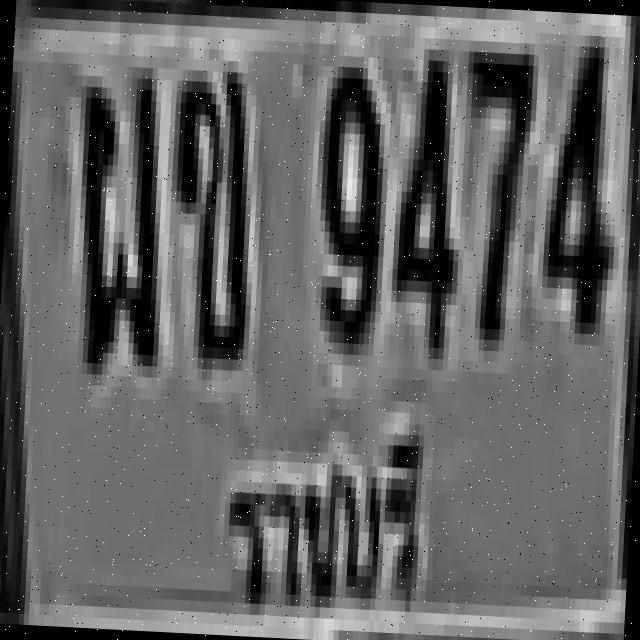11KhorKhai: (158, 58, 258, 360)
37PhorPhueng: (68, 65, 168, 366)
4: (535, 22, 616, 324), (388, 49, 459, 348)
7: (449, 41, 535, 342)
9: (309, 54, 384, 344)
Ratchaburi: (206, 400, 438, 638)
